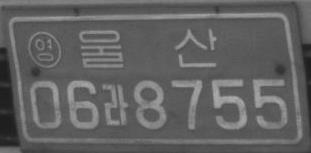0: (29, 79, 62, 129)
5: (210, 77, 249, 130), (251, 77, 289, 131)
6: (66, 79, 100, 130)
7: (170, 78, 203, 130)
8: (132, 78, 168, 130)
라: (101, 82, 129, 127)
영: (26, 30, 62, 69)
울산_D: (78, 27, 218, 68)
